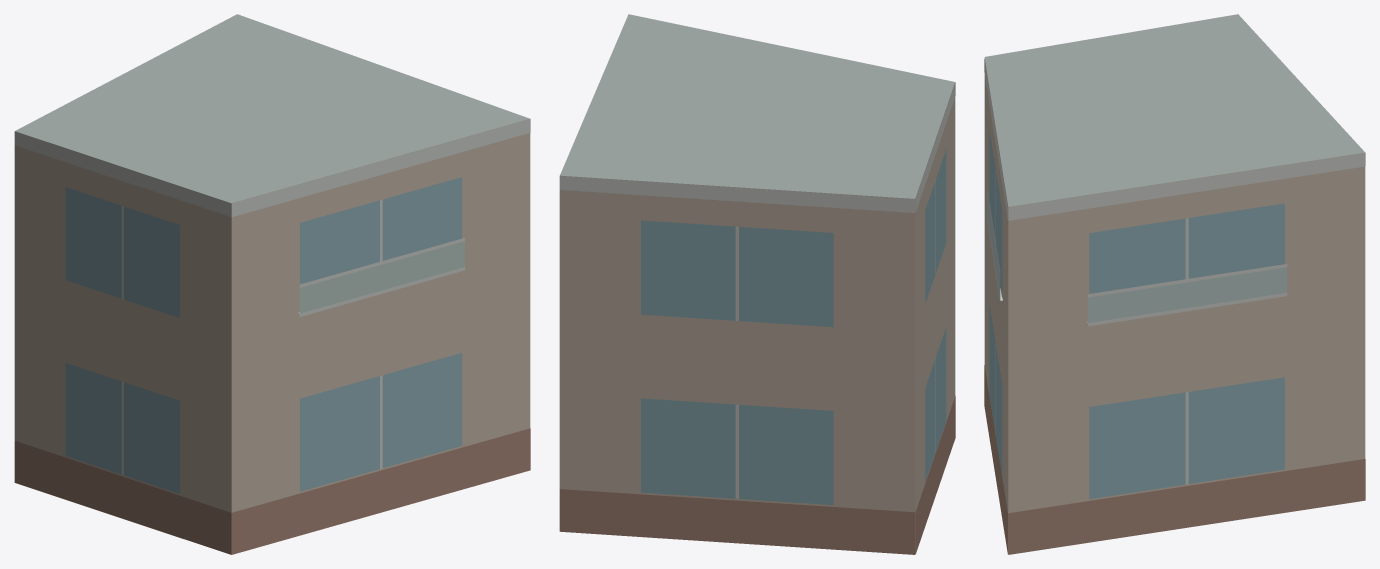
Rendered from survey-upis-32766041.glb.
3 views of the same model, side by side, from view 1: azimuth 30°, elevation 25°; view 2: azimuth 150°, elevation 25°; view 3: azimuth 270°, elevation 25° (orthographic). The views are drawn at different scales.
Parts seen in each view (by area): view 1: survey-upis-32766041.tmp; view 2: survey-upis-32766041.tmp; view 3: survey-upis-32766041.tmp.
Part boxes in pixels (<box>): survey-upis-32766041.tmp: <box>14,14,530,554</box>; survey-upis-32766041.tmp: <box>559,14,955,554</box>; survey-upis-32766041.tmp: <box>984,14,1365,554</box>.
Size of the model in its own units: 7.26 by 6.1 by 6.07.
